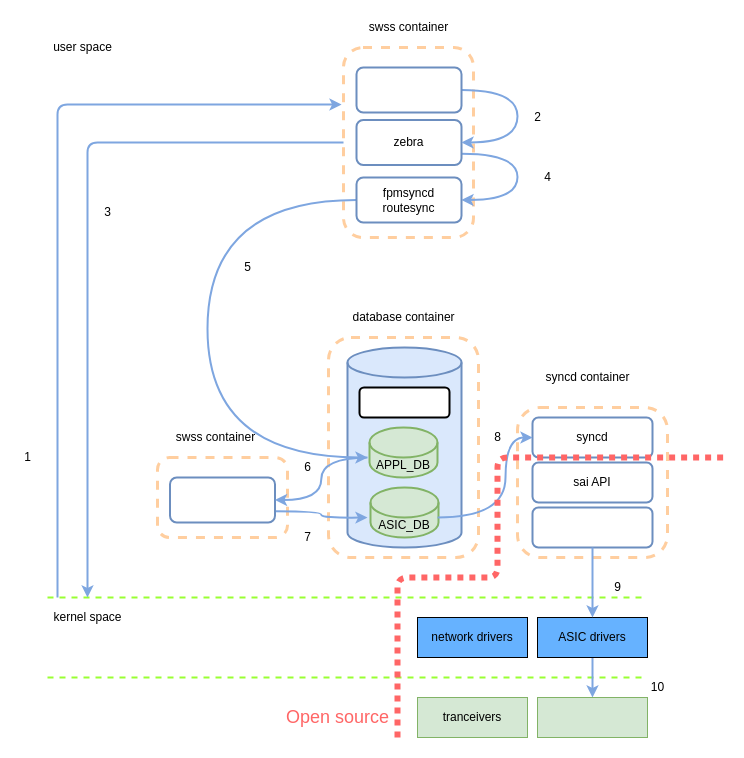
Image size: 744x758. Some labels were removed from this diagram. The shapes that lost their labels are listed below. From the top down, each one's box as (x1, y1, x2, y2) in pixels, then its label:
(355, 66, 462, 113): bgp
(358, 386, 450, 418): redis-server
(168, 476, 276, 523): orchagent
(531, 506, 653, 548): ASIC sdk
(536, 696, 648, 738): ASIC
